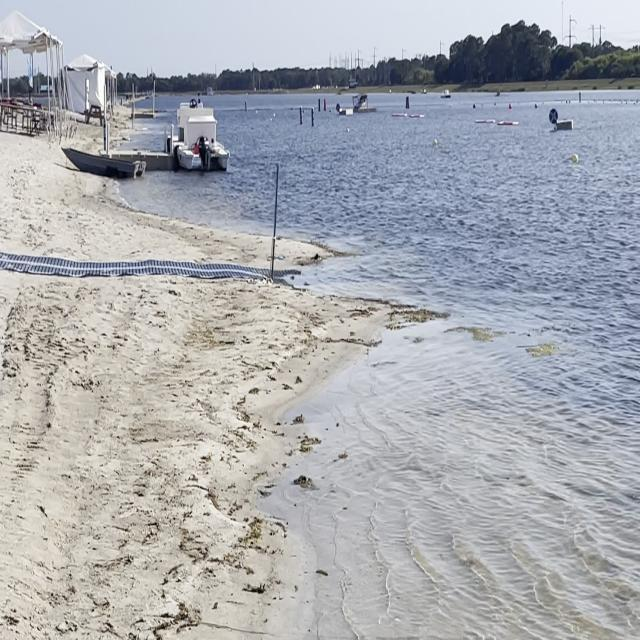buoy: (569, 148, 582, 168), (430, 137, 440, 152)
